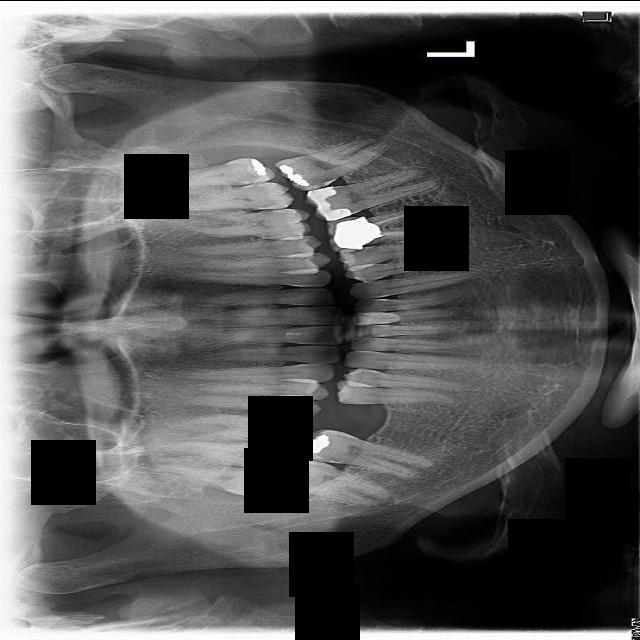74: (370, 206, 424, 227), (380, 227, 447, 236)
NucleOSS Implant: (344, 211, 384, 248), (276, 161, 310, 189), (278, 414, 309, 444), (279, 460, 313, 487), (303, 432, 334, 457), (265, 445, 291, 470), (249, 155, 269, 178), (250, 475, 269, 490)
Sterngold Implant: (231, 169, 263, 188), (346, 244, 376, 263), (309, 174, 334, 188), (242, 179, 266, 192), (315, 451, 339, 463), (310, 459, 330, 469), (257, 202, 275, 208)
Straumann Implant: (302, 177, 352, 231), (355, 308, 400, 324)
Zimmer Implant: (324, 214, 366, 254)
